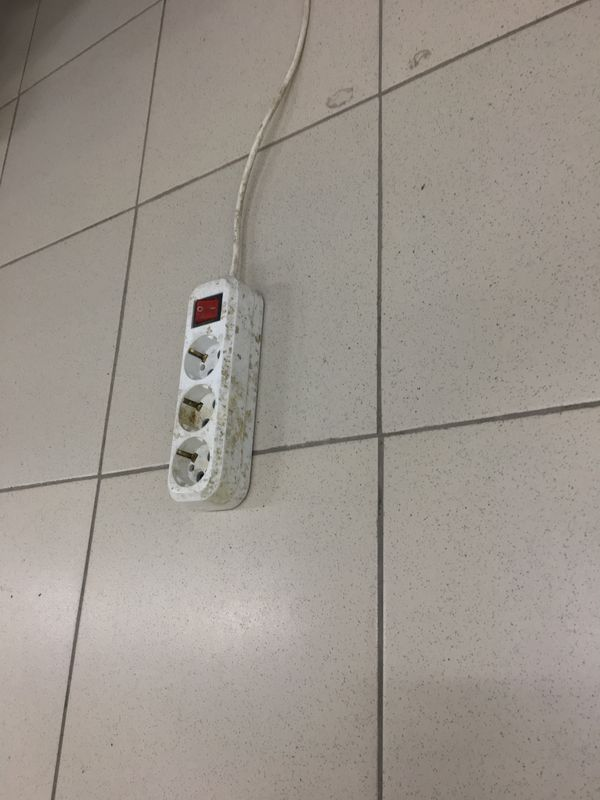socket: (156, 272, 273, 517)
